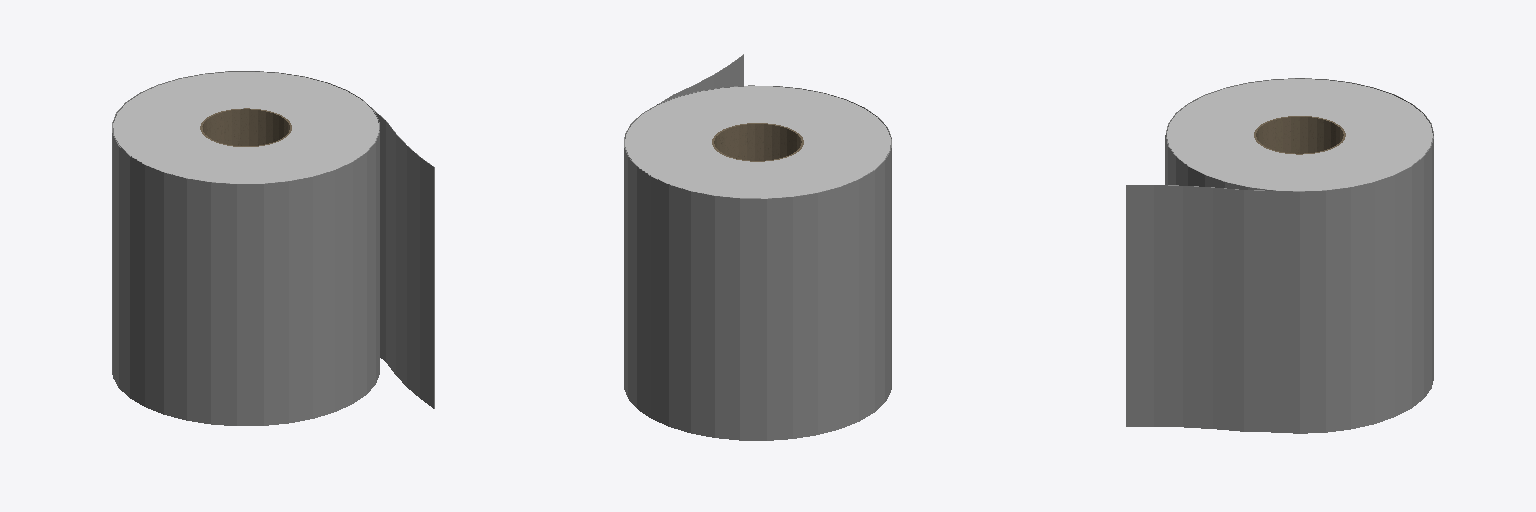
3 views of the same model, side by side, from view 1: azimuth 30°, elevation 25°; view 2: azimuth 150°, elevation 25°; view 3: azimuth 270°, elevation 25° (orthographic).
Visible parts, largest first — view 1: Cylinder.001, Cylinder.003, Cylinder.002; view 2: Cylinder.001, Cylinder.003, Cylinder.002; view 3: Cylinder.001, Cylinder.003, Cylinder.002.
Part boxes in pixels (x1,y1,x2,y2): Cylinder.001: (112, 71, 434, 425); Cylinder.003: (113, 72, 378, 183); Cylinder.002: (200, 108, 291, 146); Cylinder.001: (624, 54, 891, 440); Cylinder.003: (625, 86, 890, 198); Cylinder.002: (712, 123, 803, 161); Cylinder.001: (1126, 78, 1433, 433); Cylinder.003: (1167, 79, 1432, 190); Cylinder.002: (1254, 116, 1345, 154).
Bounding box in the file's own units: 2.02 × 2.01 × 2.32.
3 materials, 1 textured.